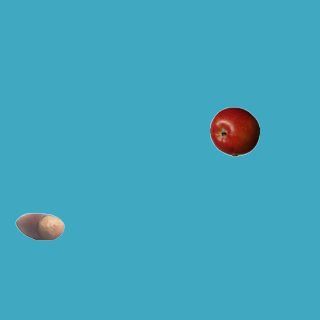Apple Braeburn: (209, 106, 259, 156)
Hazelnut: (14, 201, 64, 251)
